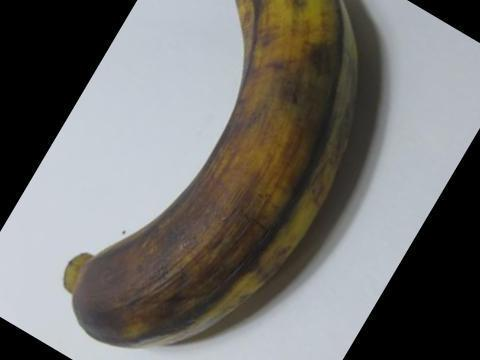overripe: (49, 0, 381, 353)
